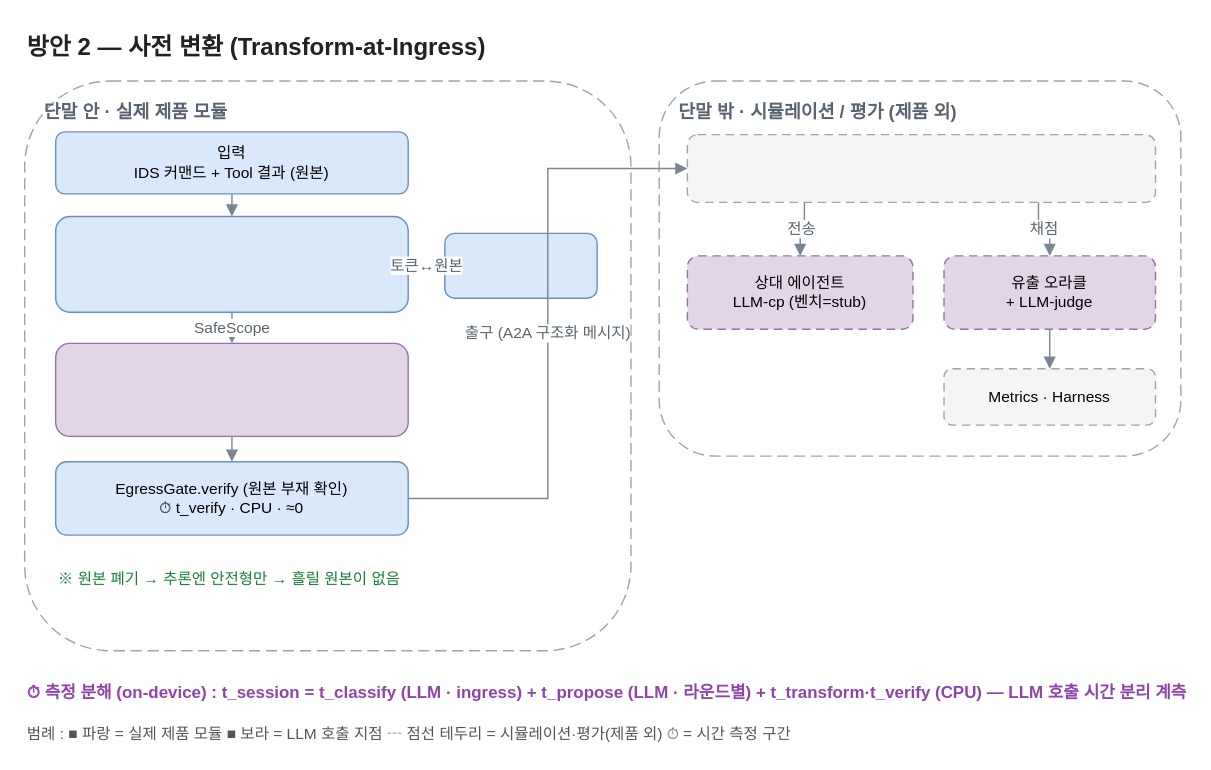
The diagram is 1211 pixels wide and 770 high, and some of its shapes have lost their labels. Here are the shapes that lost their labels. From the top down, the centre of each, then its label:
the point at 920,167: EgressMonitor 나가는 메시지 가로채기 · 측정 탭
the point at 231,263: PrivacyMediator 변환·차단·토큰화 (ingress 1회) ⏱ t_transform · CPU + t_classify · LLM
the point at 520,265: PrivacyVault 토큰 보관
the point at 231,389: NegotiationEngine + LLM-on SafeScope(coarse)만 보고 제안 ⏱ t_propose · LLM · 라운드별
